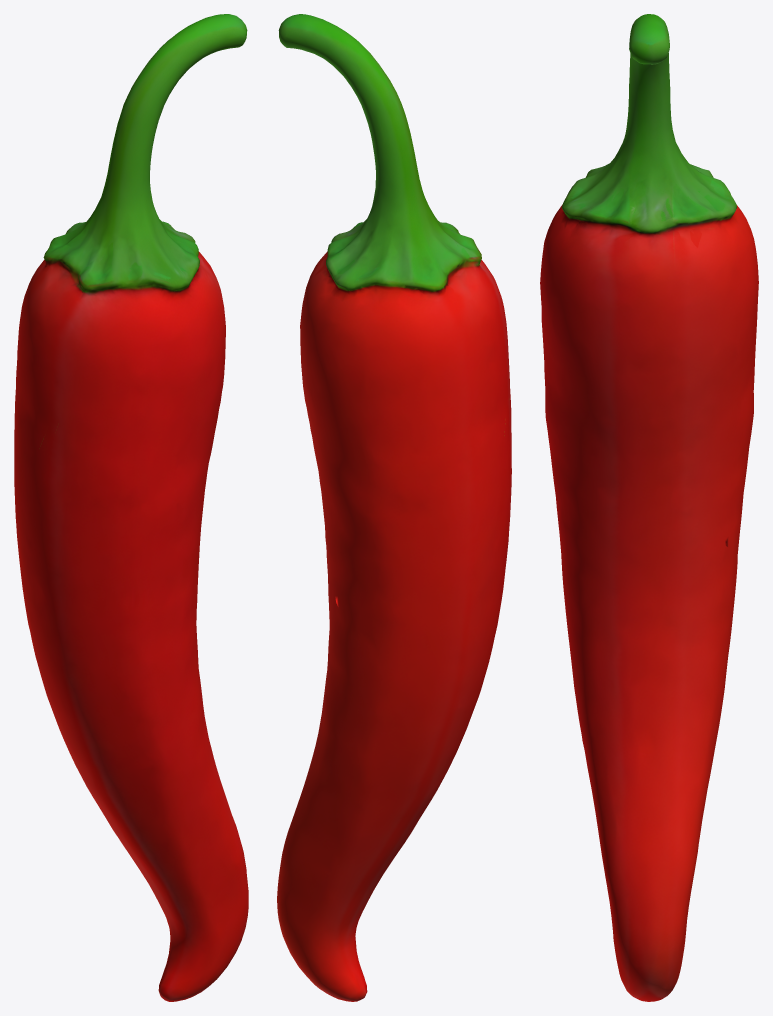
Rendered from Spicy_Delight_1208225020_texture.obj.
3 renders of one model, left to right at view 1: azimuth 30°, elevation 25°; view 2: azimuth 150°, elevation 25°; view 3: azimuth 270°, elevation 25°, orthographic. The views are drawn at different scales.
Visible parts, largest first — view 1: Spicy_Delight_1208225020_texture; view 2: Spicy_Delight_1208225020_texture; view 3: Spicy_Delight_1208225020_texture.
Boxes of the visible parts, x1,y1,x2,y2 form: Spicy_Delight_1208225020_texture: (14, 14, 248, 1001); Spicy_Delight_1208225020_texture: (277, 14, 511, 1001); Spicy_Delight_1208225020_texture: (540, 14, 758, 1001).
Size of the model in its own units: 0.4455 by 1.92 by 0.382.
1 material, 1 textured.
